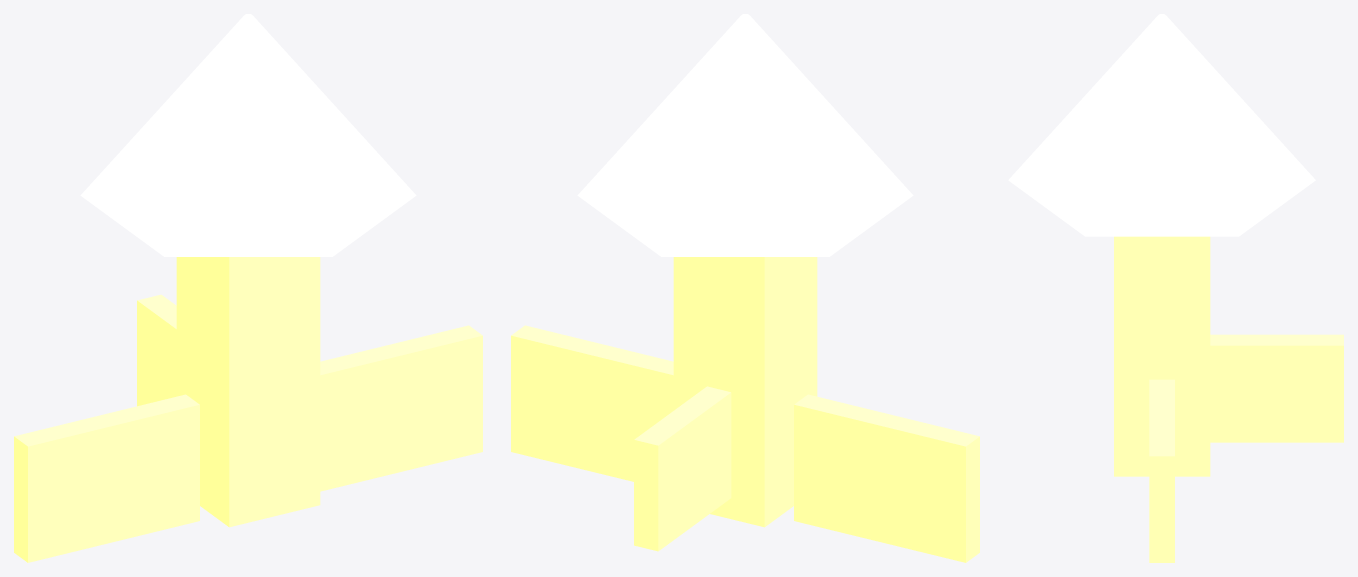
Rendered from interact_buff_speed.glb.
3 views of the same model, side by side, from view 1: azimuth 30°, elevation 25°; view 2: azimuth 150°, elevation 25°; view 3: azimuth 270°, elevation 25° (orthographic). The views are drawn at different scales.
Parts seen in each view (by area): view 1: interact_buff_speed; view 2: interact_buff_speed; view 3: interact_buff_speed.
Boxes of the visible parts, bbox=[...] form: interact_buff_speed: bbox=[14, 14, 482, 562]; interact_buff_speed: bbox=[511, 14, 979, 562]; interact_buff_speed: bbox=[1008, 14, 1343, 562].
Bounding box in the file's own units: 2.25 × 2.3 × 1.57.
